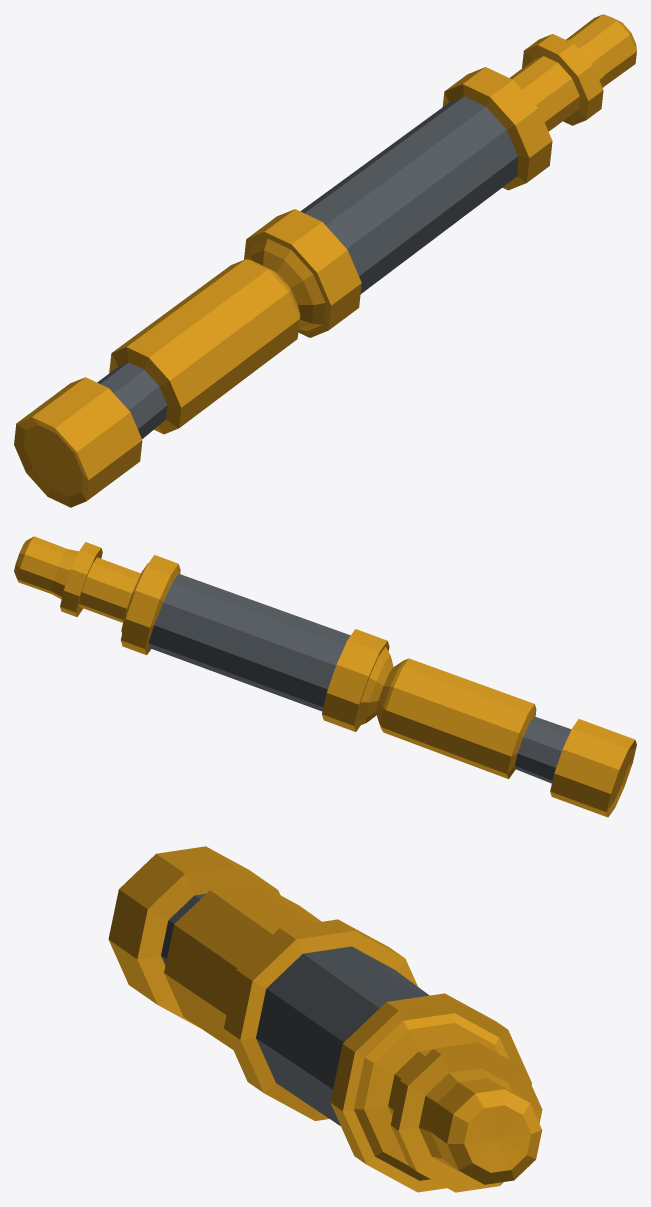
The model's file is Fighter_03_Pipes_01_Yellow.fbx.
The picture shows the model from 3 angles, top to bottom: view 1: azimuth 30°, elevation 25°; view 2: azimuth 150°, elevation 25°; view 3: azimuth 270°, elevation 25°; orthographic projection. The views are drawn at different scales.
Visible parts, largest first — view 1: Fighter_03_Pipes_01_Yellow; view 2: Fighter_03_Pipes_01_Yellow; view 3: Fighter_03_Pipes_01_Yellow.
Part boxes in pixels (x1,y1,x2,y2): Fighter_03_Pipes_01_Yellow: (14,14,636,507); Fighter_03_Pipes_01_Yellow: (14,536,636,817); Fighter_03_Pipes_01_Yellow: (108,846,542,1192).
Size of the model in its own units: 244 by 88.09 by 84.72.
Materials: 1 (1 with a texture image).
